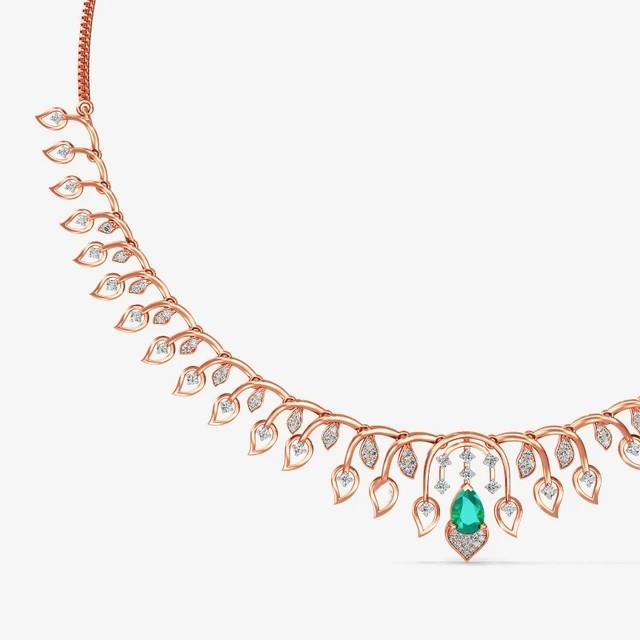missing gem: (379, 484, 389, 495)
